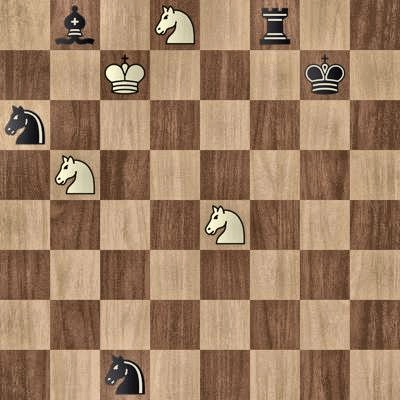black-bishop: (50, 0, 100, 50)
black-king: (300, 50, 350, 100)
black-knight: (0, 100, 50, 150), (100, 350, 150, 400)
black-rook: (250, 0, 300, 50)
white-king: (100, 50, 150, 100)
white-knight: (150, 0, 200, 50), (50, 150, 100, 200), (200, 200, 250, 250)
